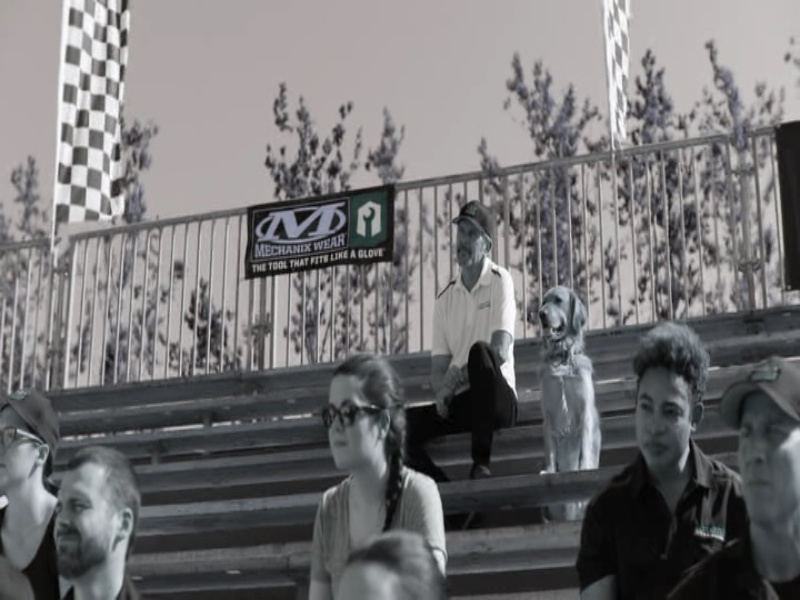TsisyArotava: (631, 332, 708, 474), (726, 374, 797, 525), (313, 362, 395, 485), (52, 453, 124, 581), (449, 202, 499, 275)
